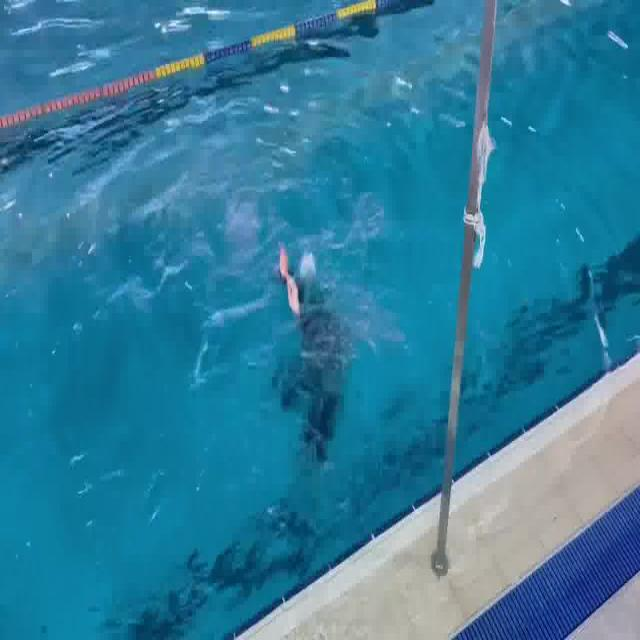Drowning: (250, 216, 360, 534)
